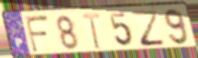5: (108, 12, 134, 48)
8: (56, 15, 81, 52)
9: (163, 7, 189, 46)
F: (23, 15, 51, 54)
T: (81, 12, 102, 51)
Z: (131, 9, 167, 48)
